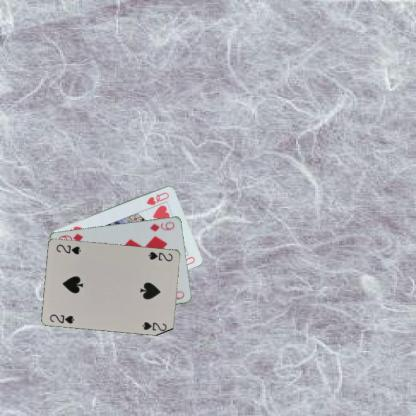2s: (47, 311, 76, 325), (146, 249, 174, 262)
9d: (147, 218, 176, 233)
Qh: (144, 190, 170, 206)
